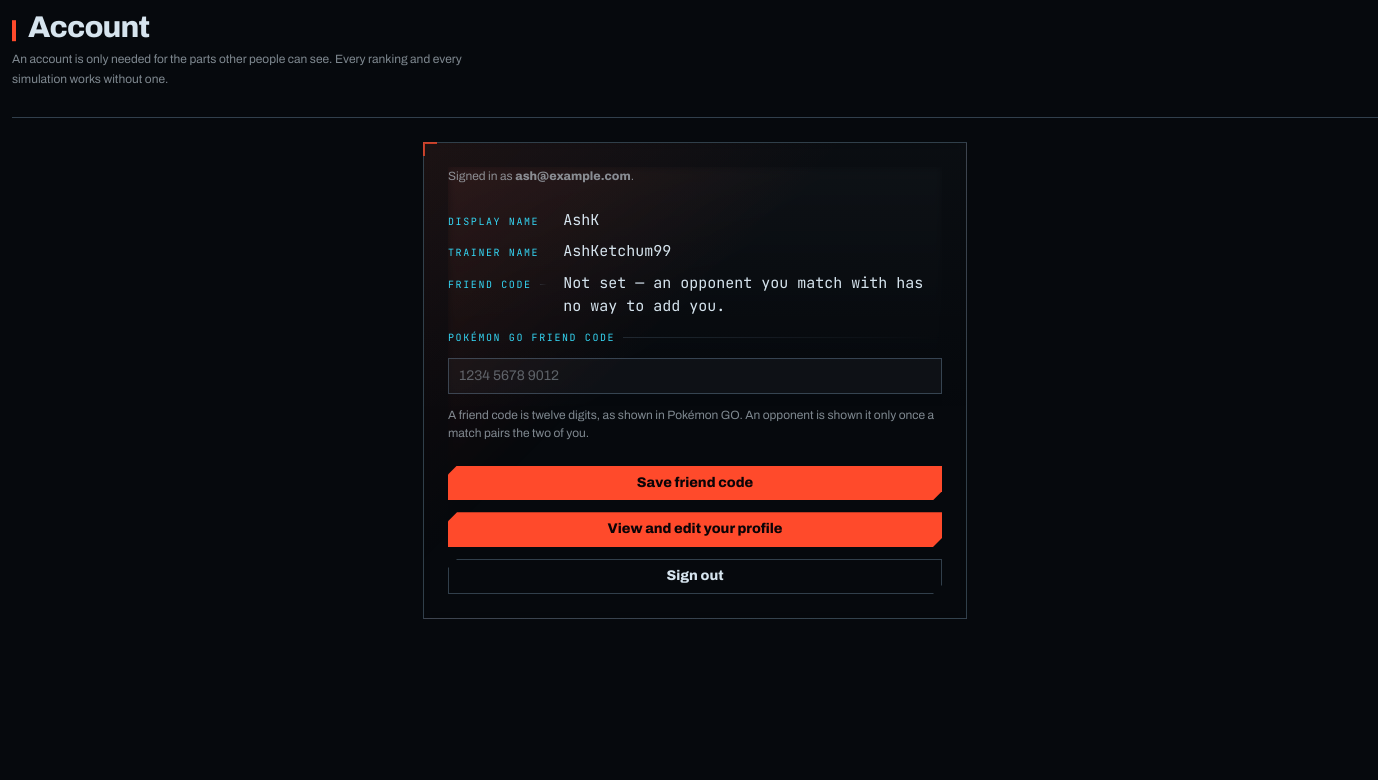
Test: a complete account › saves a code typed with any separators, and shows it back
The width and height of the screenshot is (1378, 780).
Step 1. Type "1234-5678-9012" into the field with id "account-friend-code" → (695, 376), box top-left (448, 358), bottom-right (942, 394)
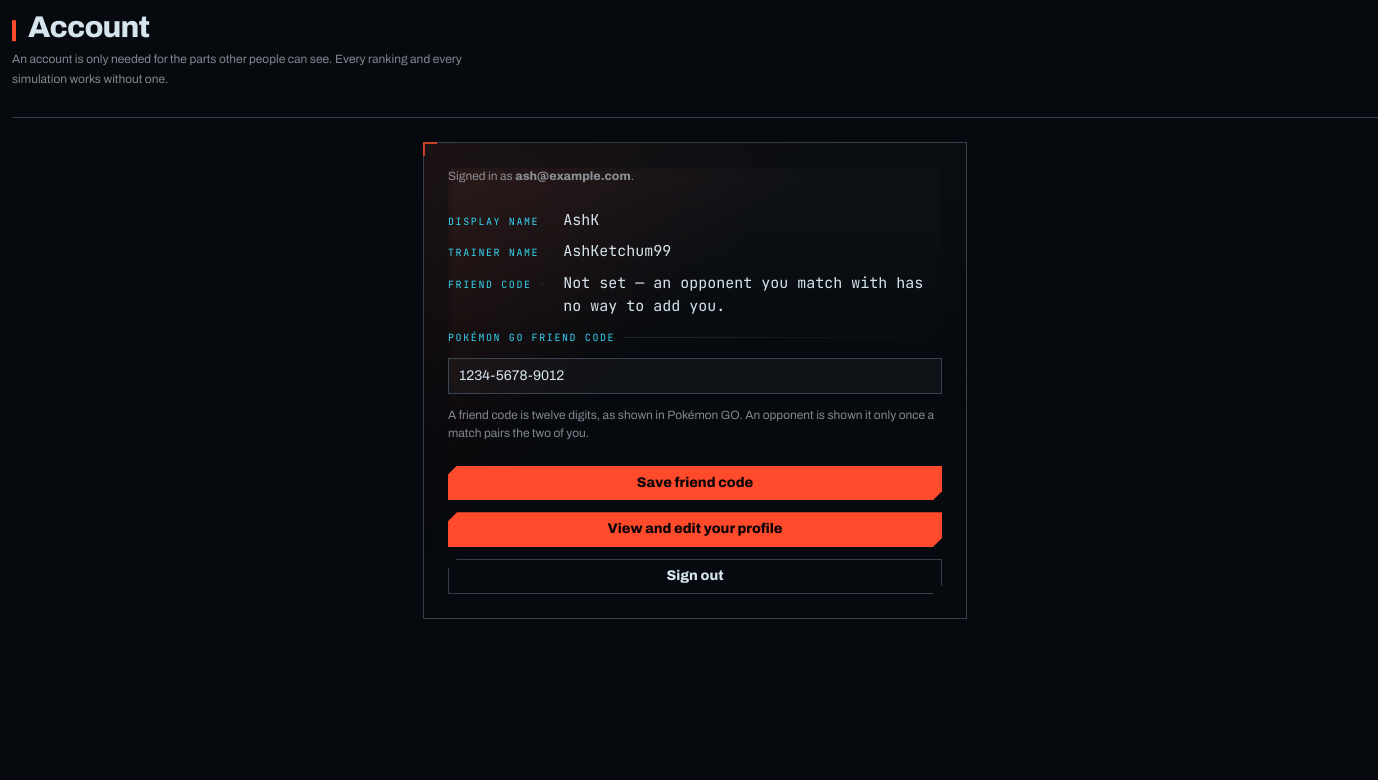
Step 2. Submit the form with id "account-friend-code", box top-left (448, 330), bottom-right (942, 500)
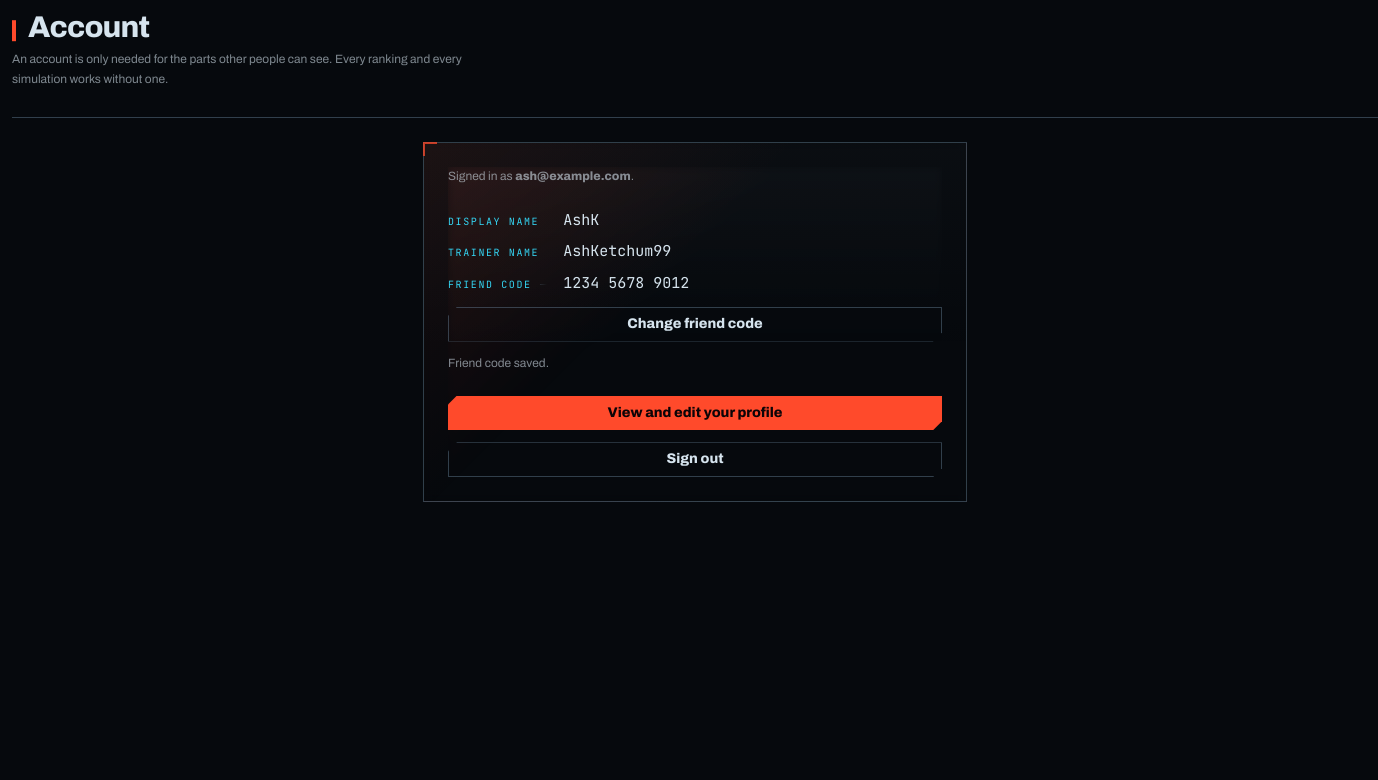
Expected: the text "1234 5678 9012" is shown, top-left (563, 272), bottom-right (689, 292)
Expected: the text "saved" is shown, top-left (448, 356), bottom-right (549, 370)
